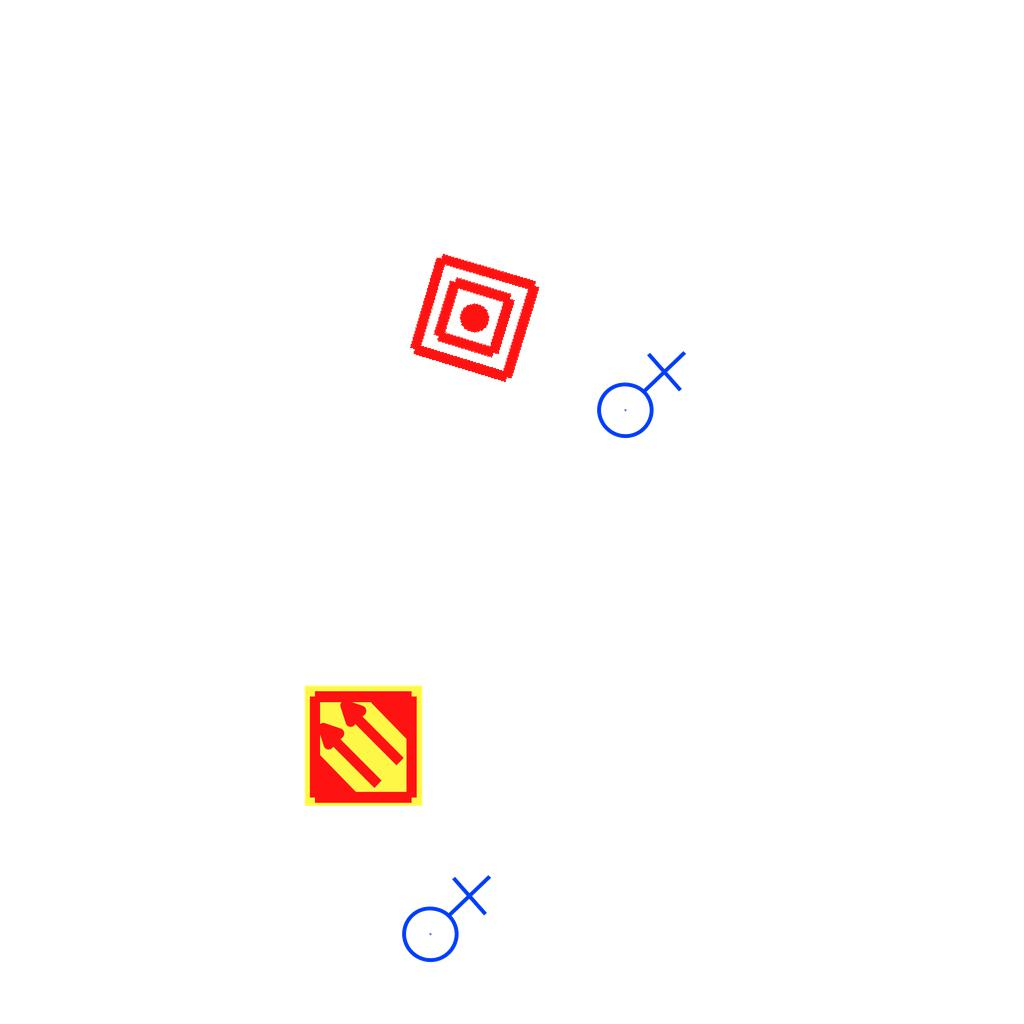ASR_Ansaugrauchmelder: (301, 683, 426, 808)
Elektroanschluss_allgemein_230V_Geraeteanschlussdose_230V: (588, 346, 687, 440), (393, 870, 492, 964)
NAM-Nichtautomatischer_Melder: (403, 246, 546, 389)
